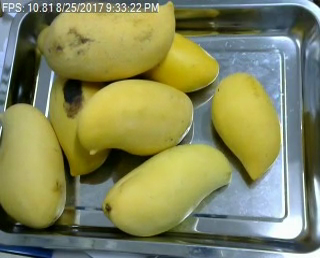Mango: (105, 140, 230, 236), (38, 1, 175, 81), (75, 79, 193, 154), (0, 102, 66, 227), (213, 72, 280, 179), (49, 64, 108, 176), (117, 27, 220, 90)
